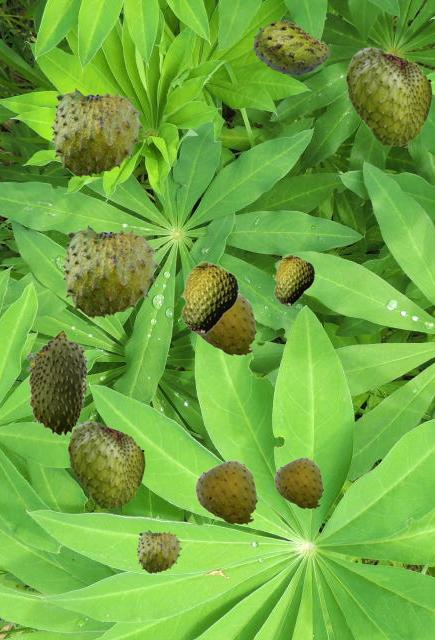guyabano: (61, 224, 159, 317), (346, 45, 431, 145), (50, 87, 143, 176), (68, 419, 144, 508), (26, 329, 89, 435), (180, 261, 238, 335), (253, 20, 329, 74), (194, 460, 257, 525), (199, 293, 256, 356), (273, 457, 323, 509), (273, 254, 314, 306), (136, 529, 181, 572)
